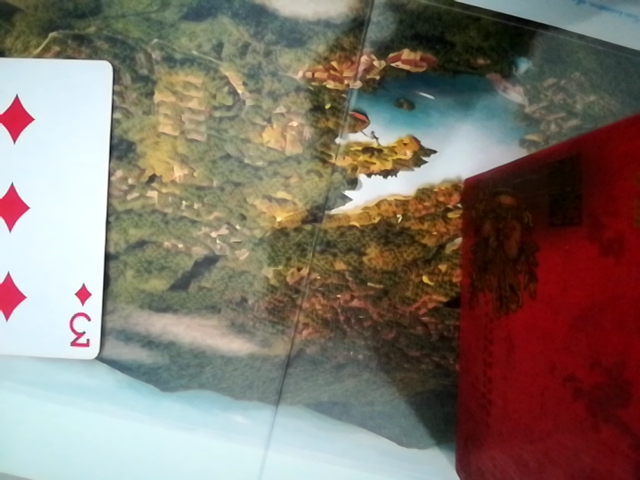fk 3: (1, 55, 111, 367)
